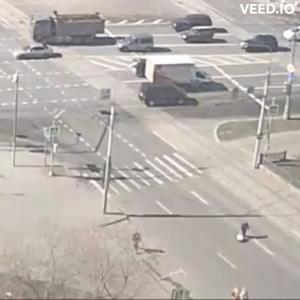car: (28, 14, 111, 47), (146, 56, 215, 91), (134, 84, 202, 114), (12, 46, 63, 67), (113, 33, 161, 54), (243, 35, 291, 55), (185, 28, 231, 46), (176, 14, 216, 32), (284, 27, 300, 43)
